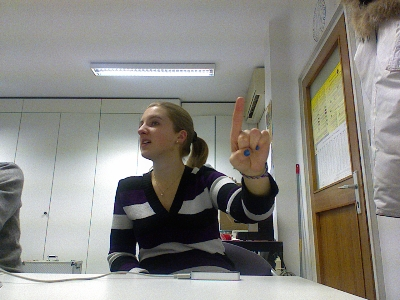食指: (227, 96, 270, 178)
